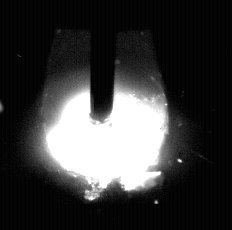arame: (91, 0, 115, 124)
poca: (46, 0, 167, 230)
